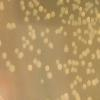white: (6, 22, 17, 31), (8, 64, 16, 73), (16, 51, 24, 59), (42, 13, 50, 21), (48, 42, 55, 51), (2, 51, 8, 61), (50, 10, 56, 20), (26, 64, 33, 72), (46, 72, 53, 80), (72, 4, 79, 12), (83, 6, 90, 14), (72, 59, 80, 66), (74, 92, 81, 100), (31, 29, 36, 40), (44, 63, 50, 72), (36, 47, 42, 56), (90, 67, 96, 76), (72, 0, 82, 5), (4, 60, 10, 68), (14, 47, 20, 55), (29, 45, 35, 53), (63, 44, 69, 52), (27, 0, 33, 8), (0, 2, 5, 11), (36, 60, 41, 69), (94, 7, 99, 16), (39, 78, 45, 85), (55, 29, 62, 35), (25, 10, 31, 17), (19, 0, 26, 6), (57, 0, 64, 6), (68, 13, 74, 20), (88, 31, 94, 38), (88, 38, 94, 45), (25, 38, 30, 46), (57, 64, 62, 72), (32, 2, 40, 7), (67, 59, 72, 67), (70, 68, 78, 73), (88, 62, 93, 70), (86, 79, 91, 87), (63, 92, 68, 100), (20, 5, 26, 11), (58, 13, 64, 19), (88, 2, 94, 8), (76, 28, 82, 34), (73, 45, 79, 51), (82, 51, 88, 57), (71, 89, 77, 95), (43, 38, 48, 45), (63, 30, 68, 37), (24, 16, 29, 23), (38, 5, 43, 12), (33, 9, 38, 16), (88, 27, 95, 32), (73, 32, 78, 39), (86, 68, 91, 75), (91, 79, 96, 86), (73, 79, 78, 86), (65, 68, 69, 76), (64, 7, 68, 15), (86, 96, 94, 100), (21, 35, 26, 41), (28, 24, 33, 30), (40, 32, 45, 38), (45, 27, 50, 33), (61, 19, 66, 25), (71, 21, 76, 27), (82, 19, 87, 25), (95, 0, 100, 6), (85, 2, 91, 7), (91, 22, 97, 27), (86, 17, 91, 23), (94, 30, 100, 35), (83, 39, 88, 45), (81, 60, 86, 66), (94, 78, 99, 84), (75, 74, 80, 80), (32, 57, 36, 64), (60, 7, 64, 14), (91, 54, 95, 61), (0, 40, 3, 49), (79, 11, 84, 16), (76, 21, 81, 26), (79, 54, 84, 59), (60, 95, 65, 100), (7, 0, 13, 4), (55, 59, 59, 65), (33, 0, 39, 4), (43, 7, 47, 13), (79, 7, 83, 13), (77, 16, 81, 22), (96, 36, 100, 42), (77, 35, 81, 41), (81, 37, 85, 43), (72, 41, 76, 47), (82, 84, 86, 90), (79, 78, 83, 84), (70, 84, 74, 90), (59, 26, 63, 31), (62, 63, 67, 67), (67, 20, 71, 25), (91, 17, 95, 22), (84, 29, 88, 34), (72, 50, 77, 54), (86, 48, 90, 53), (97, 14, 100, 20), (88, 22, 91, 28), (28, 32, 32, 36), (36, 16, 40, 20), (66, 0, 70, 4), (96, 49, 100, 53), (23, 44, 26, 49), (90, 9, 93, 14), (95, 17, 98, 22), (97, 54, 100, 59)
